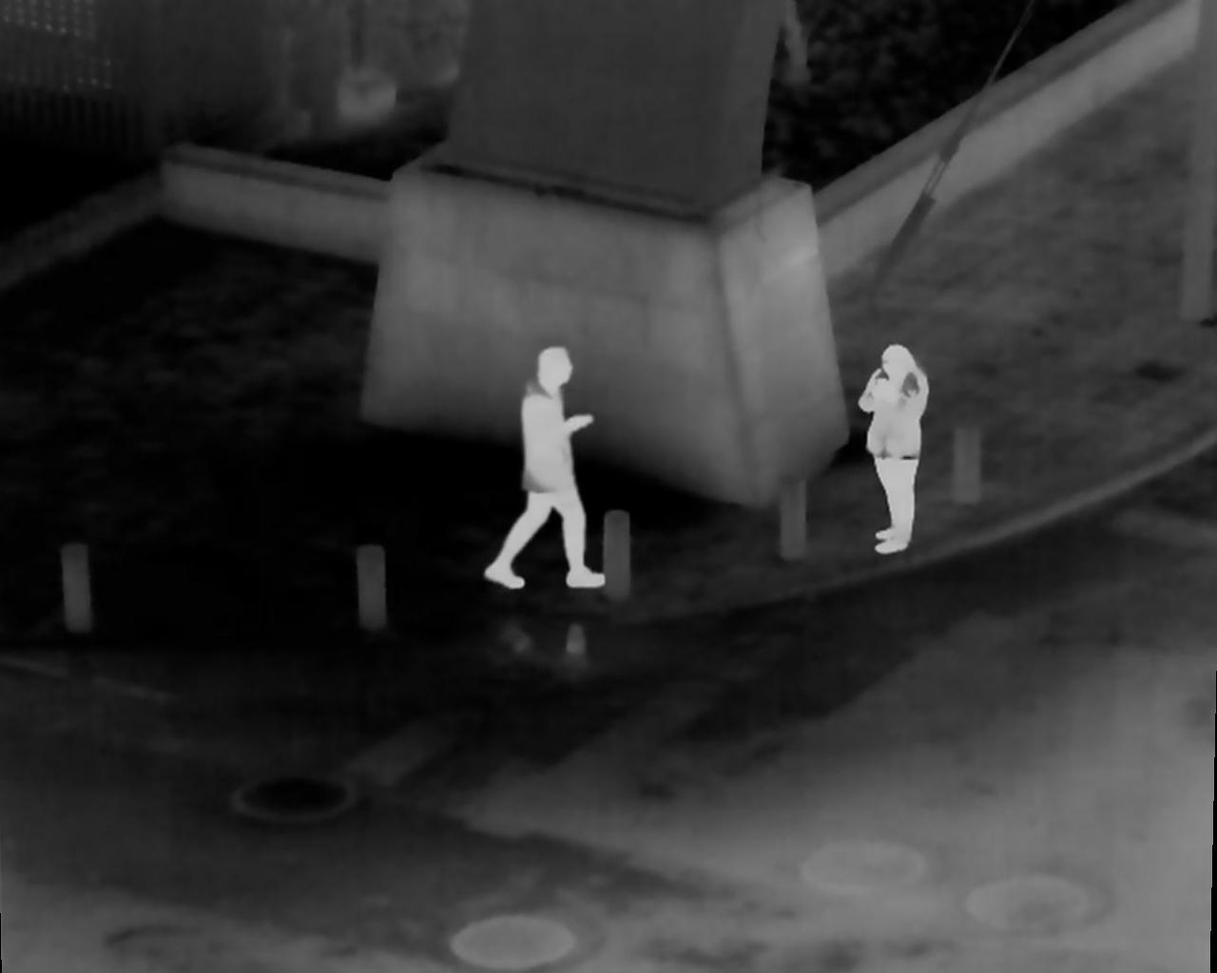person: (487, 344, 626, 594), (852, 339, 936, 552)
